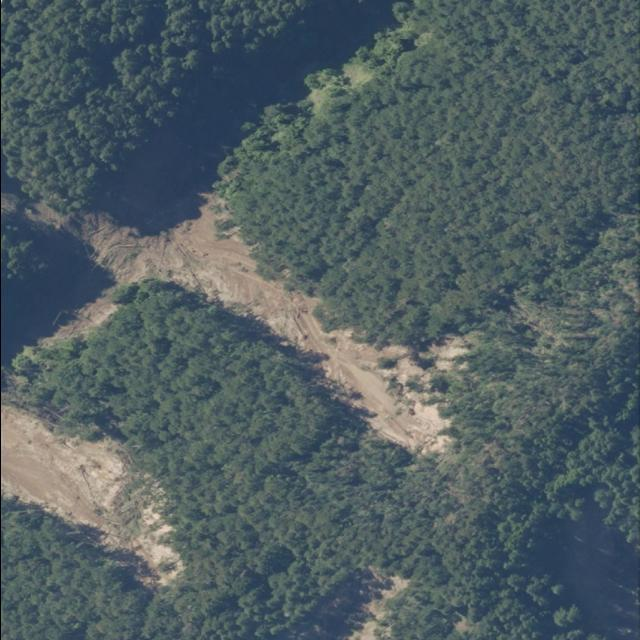landslide: (1, 195, 467, 455), (0, 406, 183, 589)
